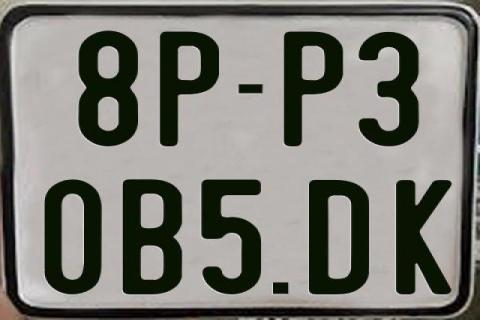0: (201, 178, 267, 294), (77, 28, 139, 148), (42, 179, 105, 297), (358, 32, 419, 150)
B: (122, 180, 183, 300)
D: (309, 178, 373, 294)
K: (393, 180, 449, 296)
P: (157, 29, 218, 150), (281, 30, 340, 148)
